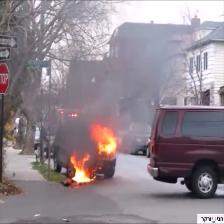fire: (94, 123, 116, 155), (73, 159, 90, 182)
